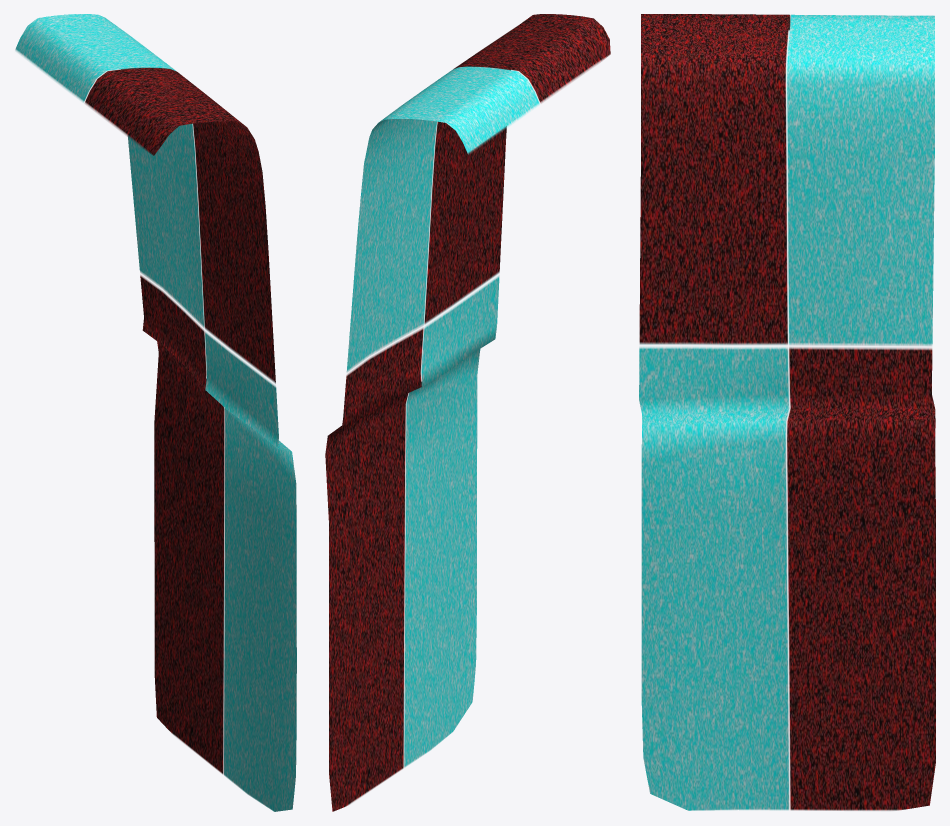
3 views of the same model, side by side, from view 1: azimuth 30°, elevation 25°; view 2: azimuth 150°, elevation 25°; view 3: azimuth 270°, elevation 25° (orthographic).
Visible parts, largest first — view 1: SM_VFX_Waterfall_SoulCavern_LOD0; view 2: SM_VFX_Waterfall_SoulCavern_LOD0; view 3: SM_VFX_Waterfall_SoulCavern_LOD0.
Part boxes in pixels (x1,y1,x2,y2): SM_VFX_Waterfall_SoulCavern_LOD0: (15, 14, 296, 811); SM_VFX_Waterfall_SoulCavern_LOD0: (325, 14, 610, 811); SM_VFX_Waterfall_SoulCavern_LOD0: (639, 14, 935, 810).
Bounding box in the file's own units: 12.35 × 58.36 × 21.25.
1 material, 1 textured.
